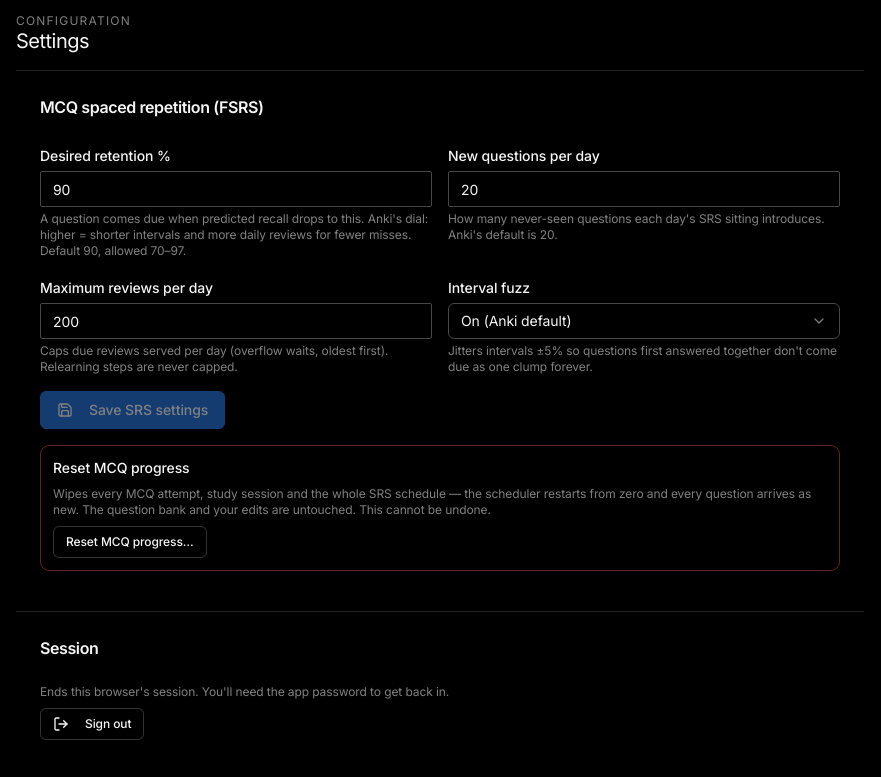
Test: Settings — an emptied numeric box is mid-edit, not a request to set zero › clearing one box saves the rest of the edit and sends no zero for it
Replace the text in the number field with test id "input-srs-new-per-day" with "30" at (644, 189), box [448,171,840,207]
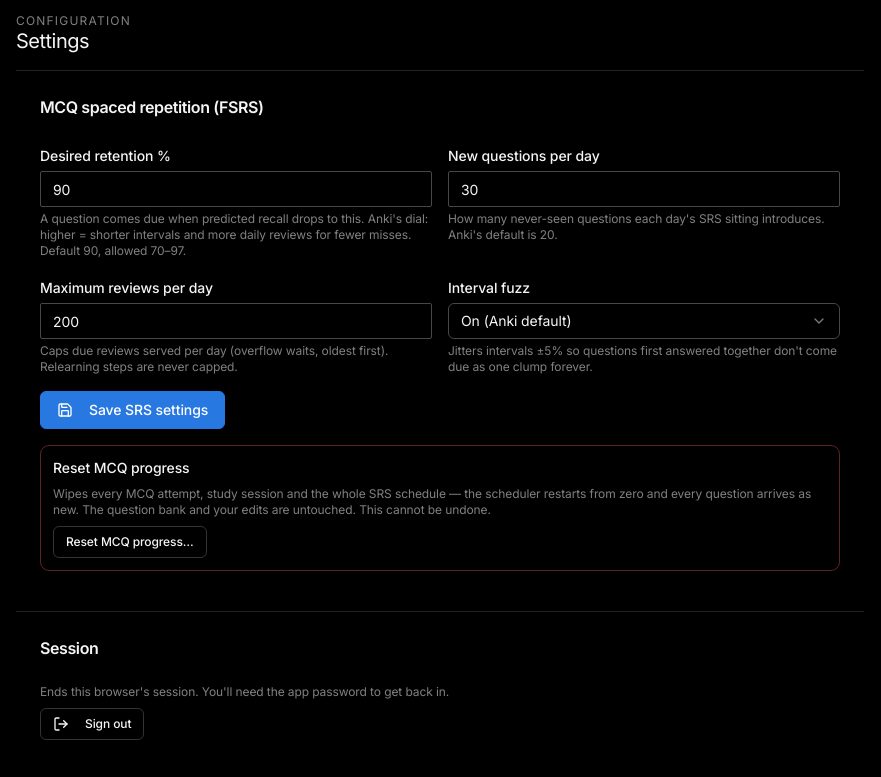
Clear the number field with test id "input-srs-max-reviews" at (236, 321), box [40,303,432,339]
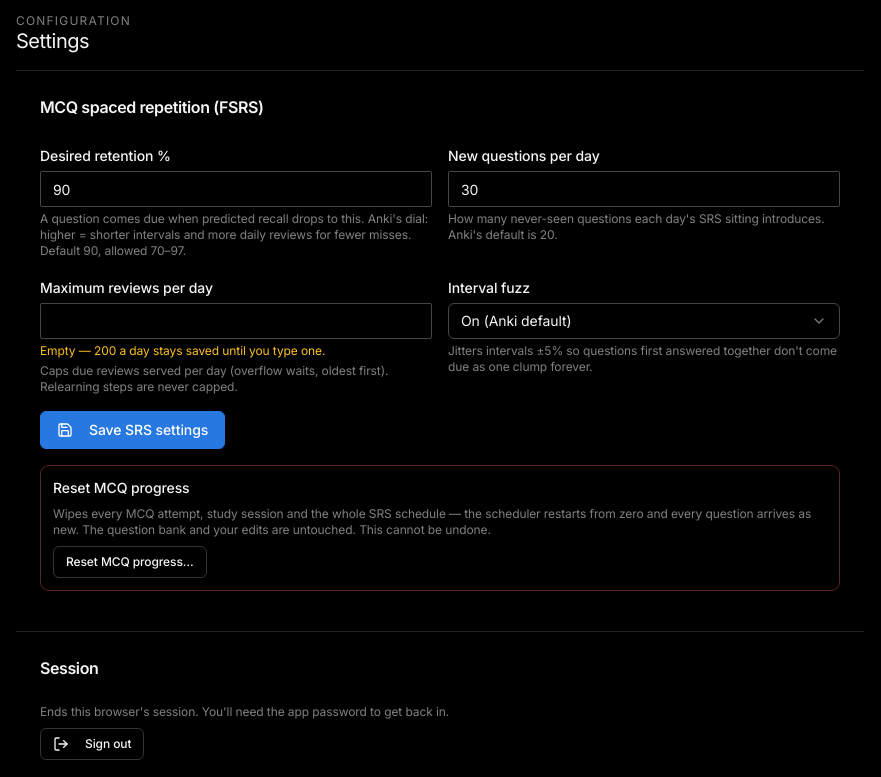
expect the text with test id "hint-empty-srsMaxReviewsPerDay" shows "200": met, box [94,343,116,358]
Click the button with test id "button-save-srs".
click(133, 430)  # box [40,411,225,449]
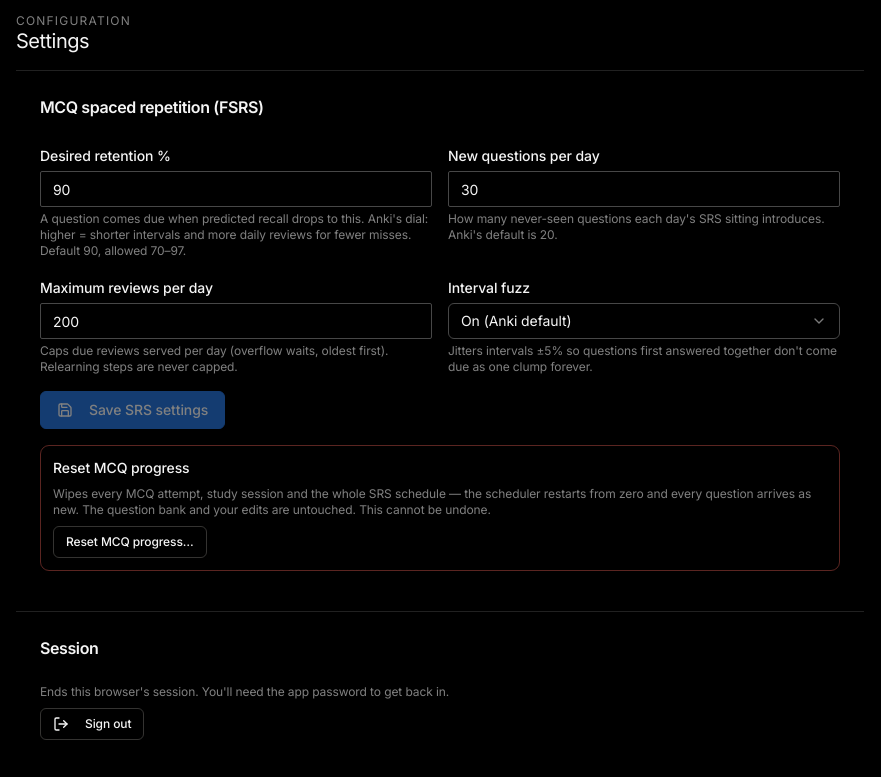
expect the number field with test id "input-srs-max-reviews" holds "200": met, box [40,303,432,339]
